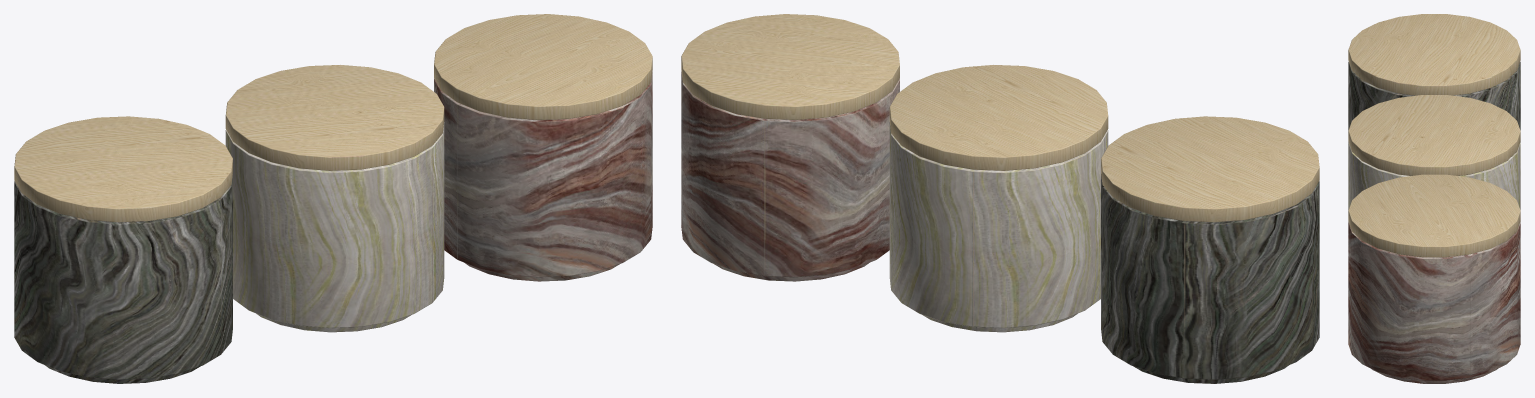
Rendered from ceramic jars.fbx.
3 views of the same model, side by side, from view 1: azimuth 30°, elevation 25°; view 2: azimuth 150°, elevation 25°; view 3: azimuth 270°, elevation 25° (orthographic). The views are drawn at different scales.
Parts seen in each view (by area): view 1: ceramic_jar_1, ceraminc_jar_2, ceramic_jar_3; view 2: ceramic_jar_1, ceraminc_jar_2, ceramic_jar_3; view 3: ceramic_jar_3, ceramic_jar_1, ceraminc_jar_2.
Boxes of the visible parts, left/top/right/bottom form: ceramic_jar_1: left=14, top=116, right=232, bottom=383; ceraminc_jar_2: left=225, top=65, right=444, bottom=332; ceramic_jar_3: left=434, top=14, right=652, bottom=281; ceramic_jar_1: left=1101, top=116, right=1319, bottom=383; ceraminc_jar_2: left=889, top=65, right=1108, bottom=332; ceramic_jar_3: left=681, top=14, right=899, bottom=281; ceramic_jar_3: left=1348, top=174, right=1520, bottom=383; ceramic_jar_1: left=1348, top=14, right=1520, bottom=142; ceraminc_jar_2: left=1348, top=95, right=1520, bottom=222.
Bounding box in the file's own units: 341 × 97.54 × 107.
